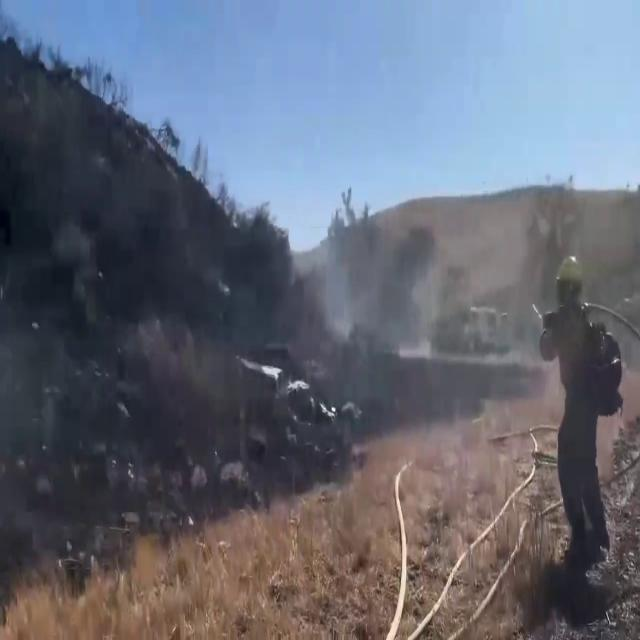Smoke: (320, 188, 456, 368)
